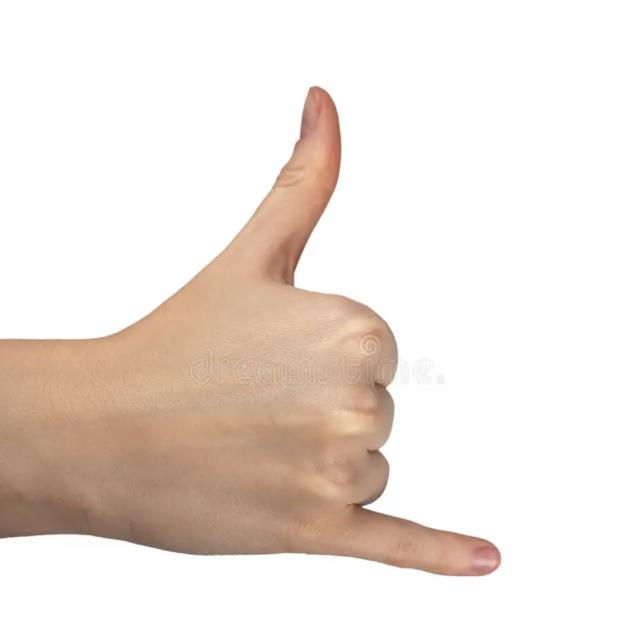pinky: (327, 503, 522, 579)
